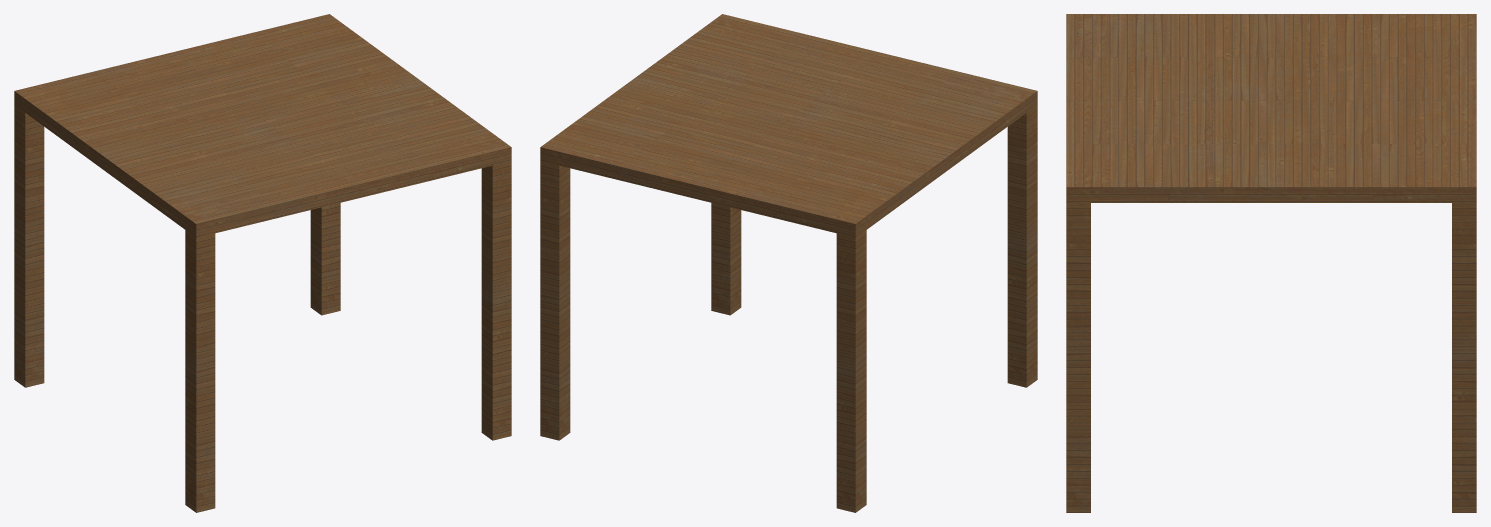
File: mesaDeCanto.fbx
3 renders of one model, left to right at view 1: azimuth 30°, elevation 25°; view 2: azimuth 150°, elevation 25°; view 3: azimuth 270°, elevation 25°, orthographic. The views are drawn at different scales.
Visible parts, largest first — view 1: Box001; view 2: Box001; view 3: Box001.
Part boxes in pixels (x1=…): Box001: x1=14, y1=14, x2=511, y2=512; Box001: x1=540, y1=14, x2=1037, y2=512; Box001: x1=1066, y1=14, x2=1476, y2=512.
Bounding box in the file's own units: 60 × 52.5 × 60.
